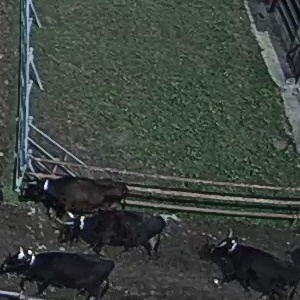cow: (47, 205, 190, 262), (2, 240, 120, 300), (209, 223, 297, 300), (14, 168, 142, 215)
